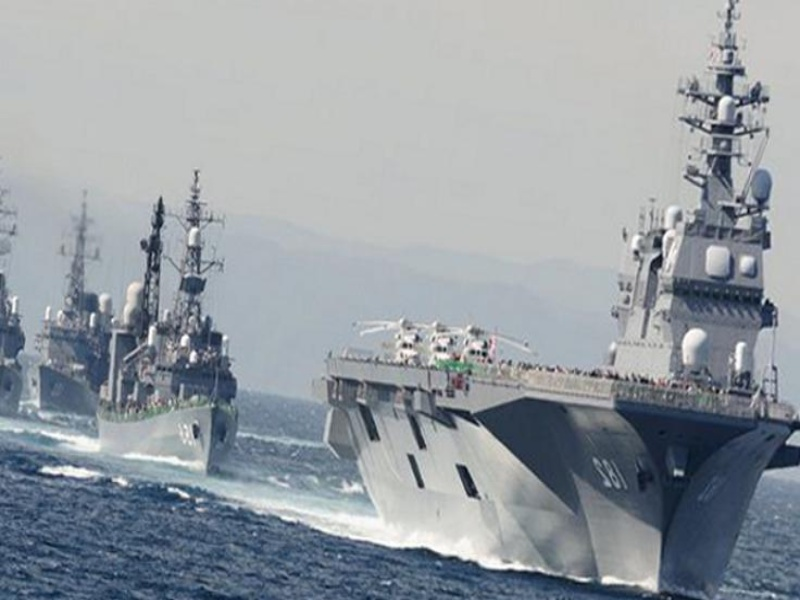carrier: (351, 162, 791, 588)
cruise: (100, 265, 231, 467), (19, 228, 99, 426)
